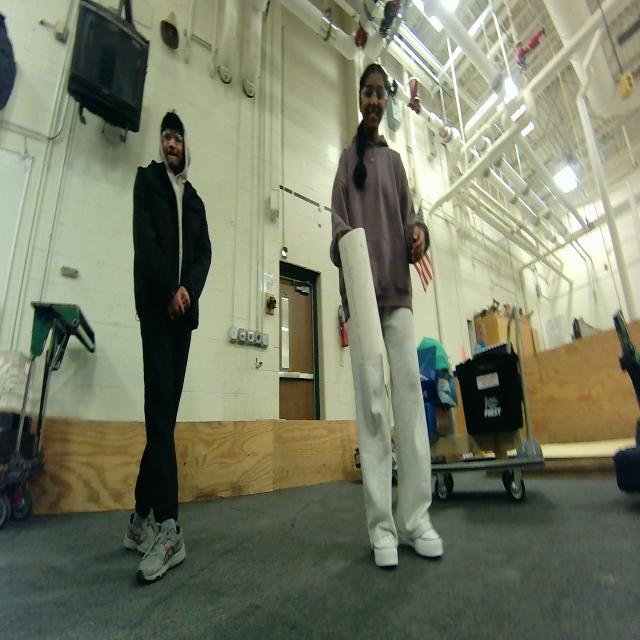coral: (334, 220, 398, 374)
